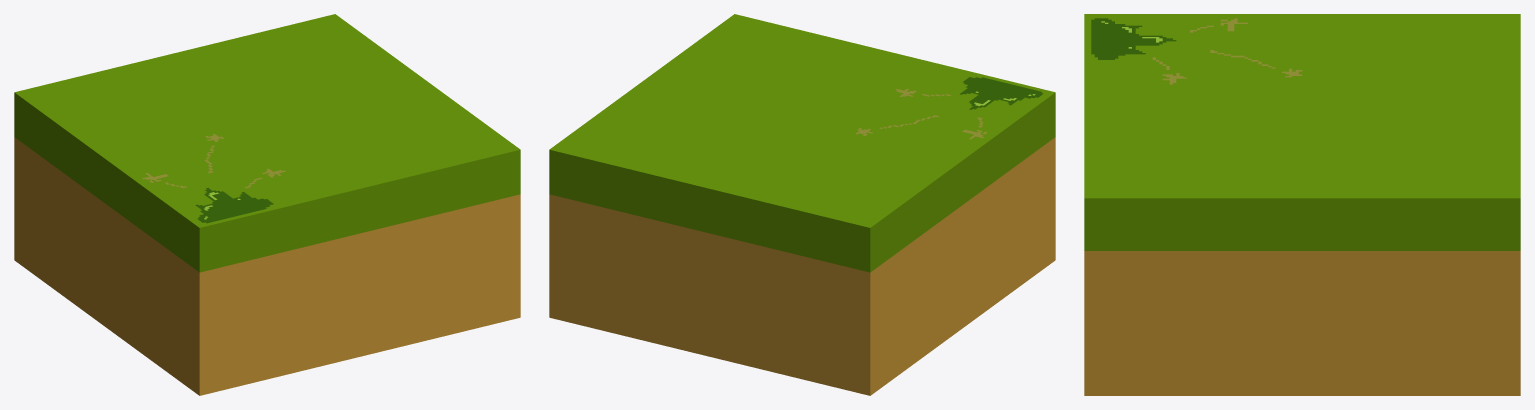
3 renders of one model, left to right at view 1: azimuth 30°, elevation 25°; view 2: azimuth 150°, elevation 25°; view 3: azimuth 270°, elevation 25°, orthographic. The views are drawn at different scales.
Visible parts, largest first — view 1: 13A; view 2: 13A; view 3: 13A.
Part boxes in pixels (<box>): 13A: <box>14,14,520,395</box>; 13A: <box>549,14,1055,395</box>; 13A: <box>1084,14,1520,395</box>.
Bounding box in the file's own units: 12.8 × 6.4 × 12.8.
1 material, 1 textured.
